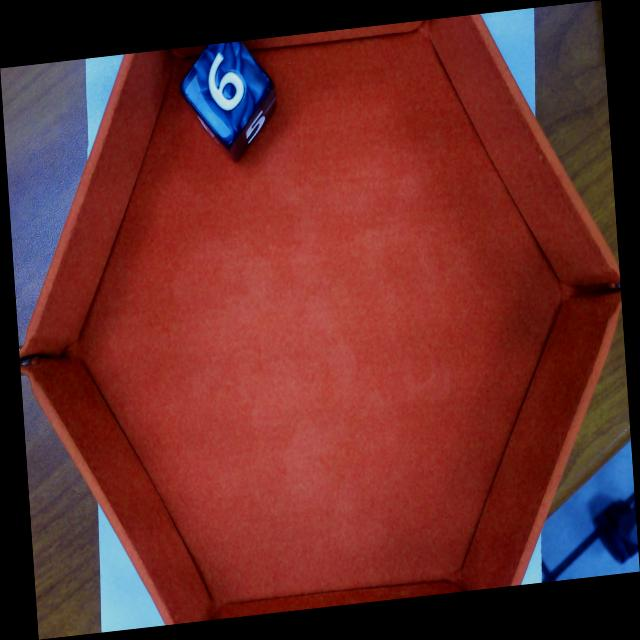dice: (183, 40, 269, 137)
